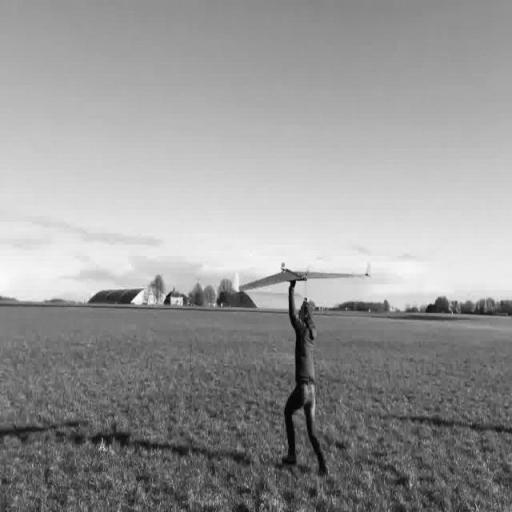uav: (232, 254, 374, 302)
